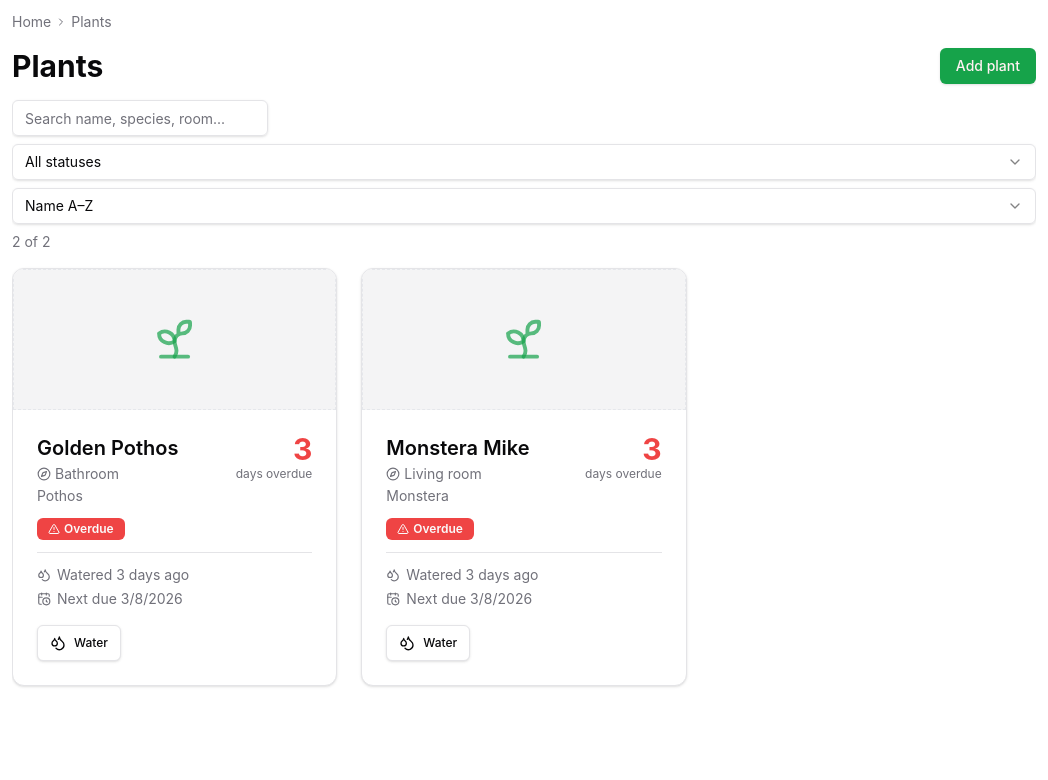
PlantsPage › filters, shows a no-results state, and clears via the toolbar
The image size is (1048, 780).
Expected: the link "Monstera Mike" is shown, [386,436,530,460]
Expected: the text "2 of 2" is shown, [12,232,50,252]
Type "pothos" into the field named "Search plants" at (140, 118), box [12,100,268,136]
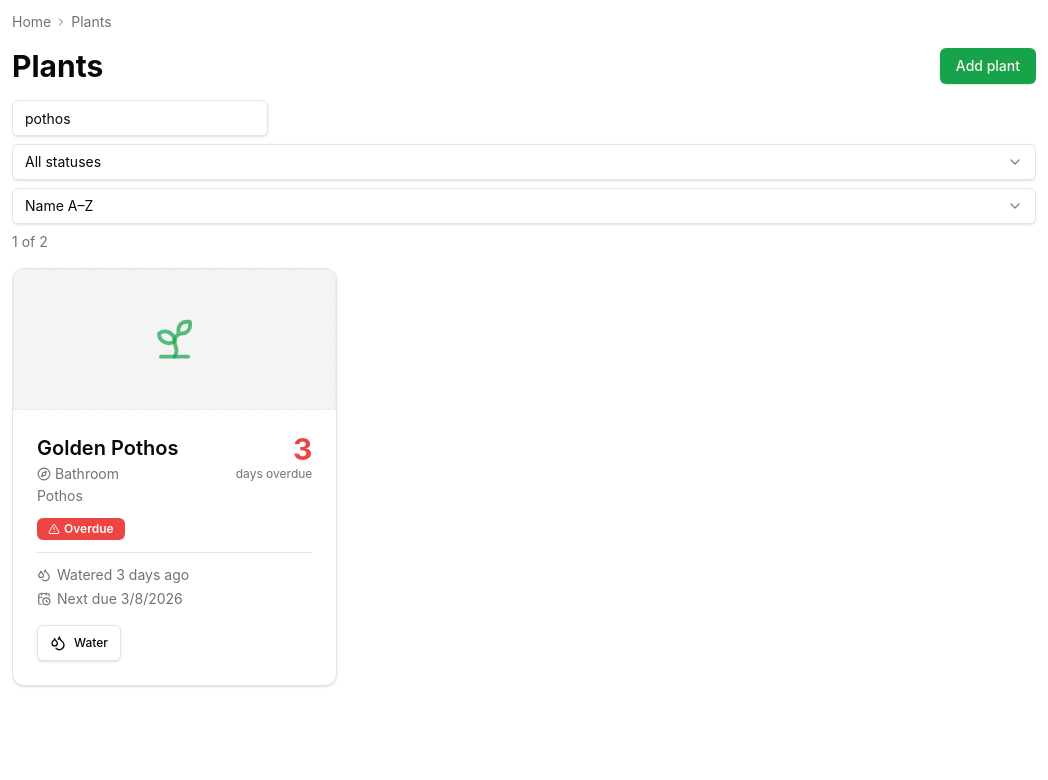
Expected: the link "Golden Pothos" is shown, [37,436,178,460]
Expected: the link "Monstera Mike" is gone
Expected: the text "1 of 2" is shown, [12,232,48,252]
Replace the text in the field named "Search plants" with "zzz" at (140, 118), box [12,100,268,136]
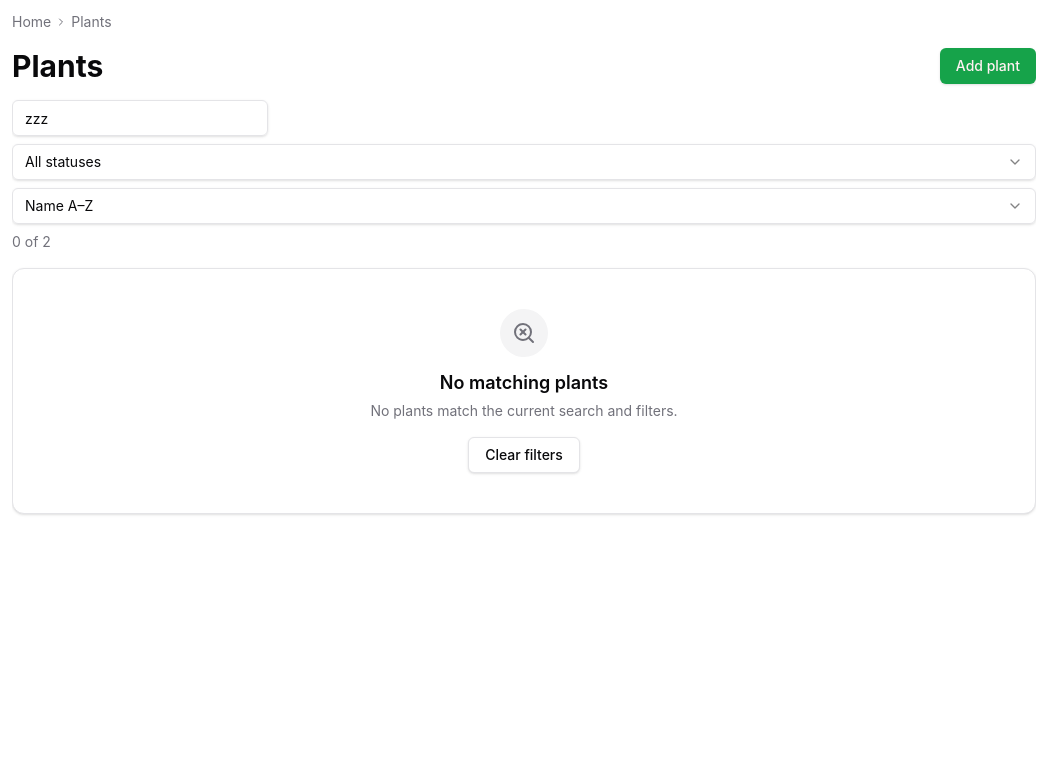
Expected: the heading "No matching plants" is shown, [440,369,608,397]
Click the button "Clear filters" at (524, 455), box [468,437,580,473]
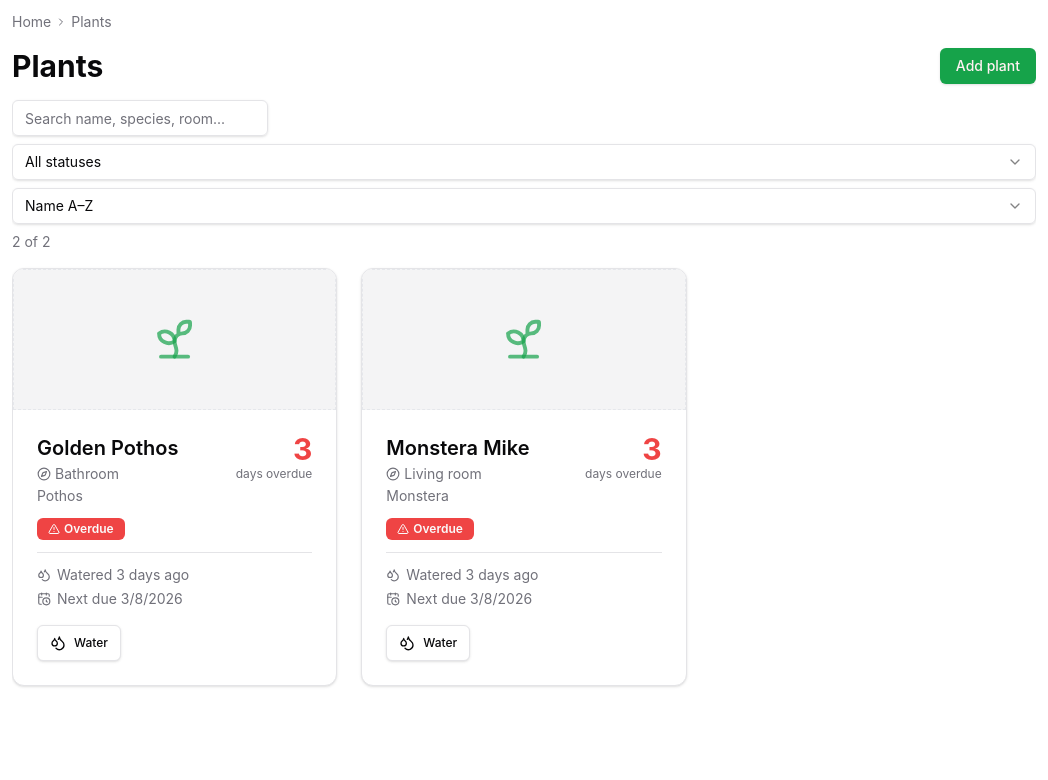
Expected: the link "Monstera Mike" is shown, [386,436,530,460]
Expected: the text "2 of 2" is shown, [12,232,50,252]
